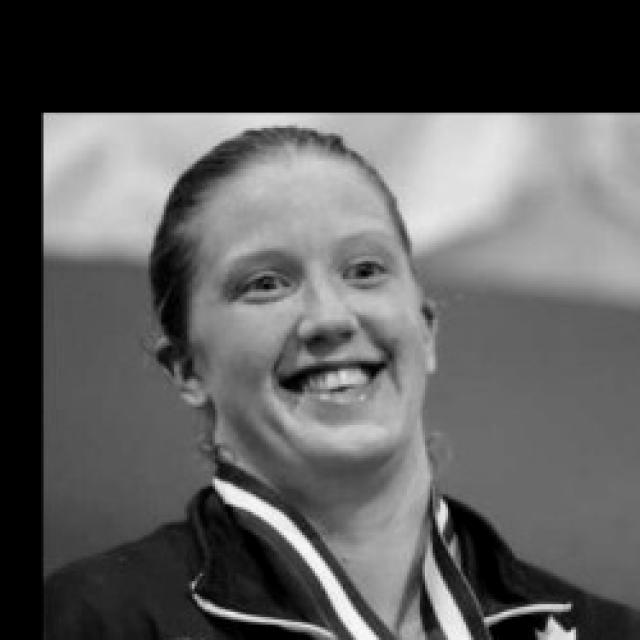real: (154, 128, 466, 497), (228, 246, 405, 308)
